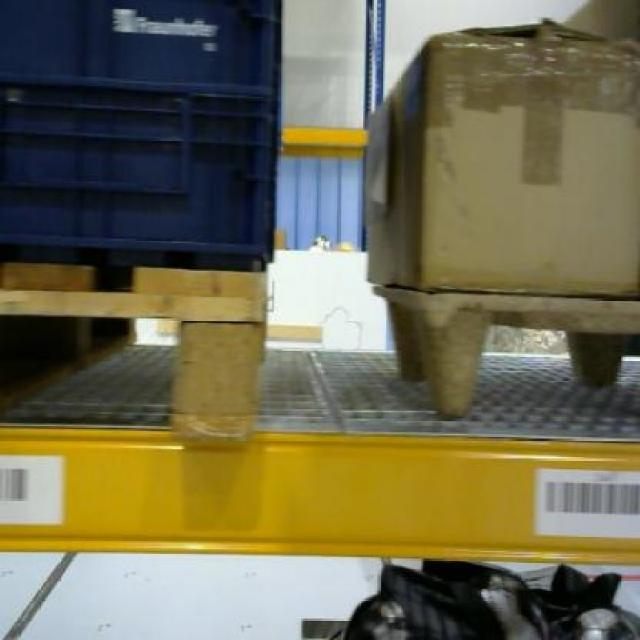box: (366, 19, 640, 298)
